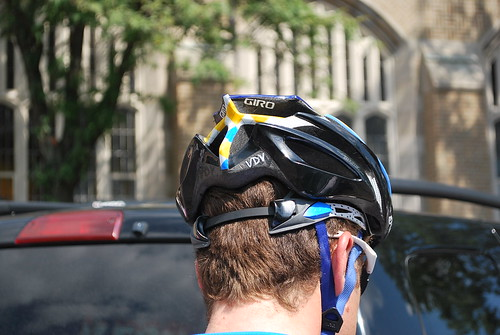helmet: (229, 112, 412, 208)
